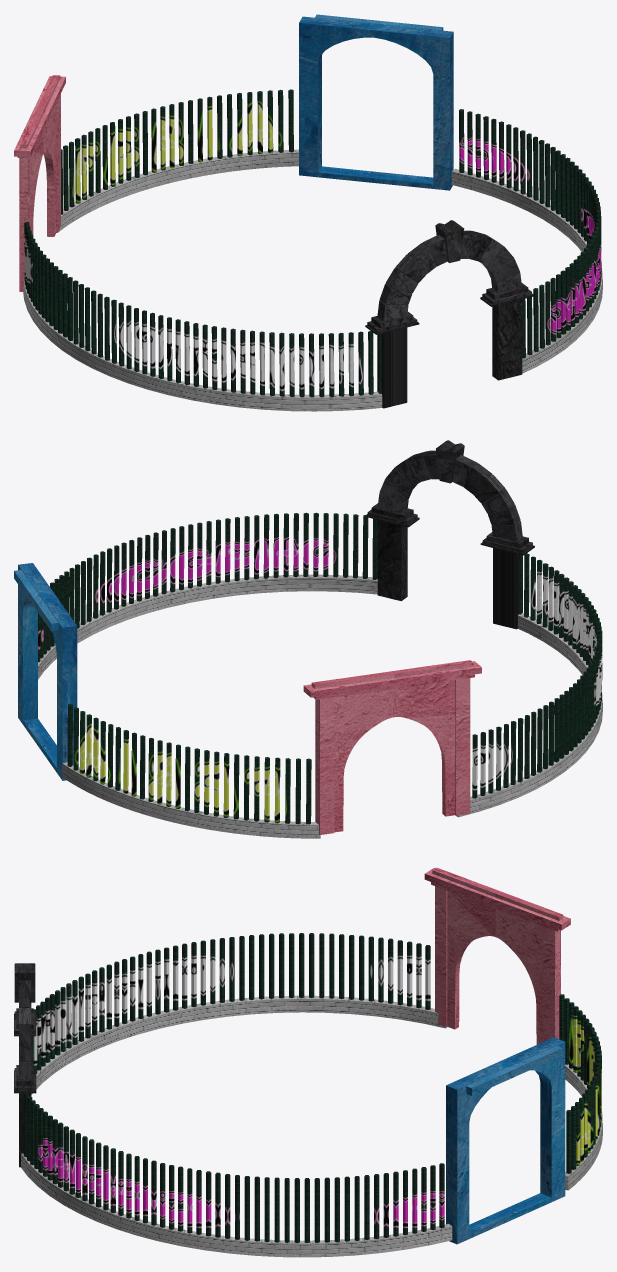
Rendered from rejas_arcos.obj.
3 views of the same model, one above another, from view 1: azimuth 30°, elevation 25°; view 2: azimuth 150°, elevation 25°; view 3: azimuth 270°, elevation 25° (orthographic).
Parts seen in each view (by area): view 1: aparte; view 2: aparte; view 3: aparte.
Part boxes in pixels (x1,y1,x2,y2): aparte: (14, 14, 602, 411); aparte: (14, 440, 602, 838); aparte: (14, 867, 602, 1257).
Bounding box in the file's own units: 106 × 34.1 × 107.
